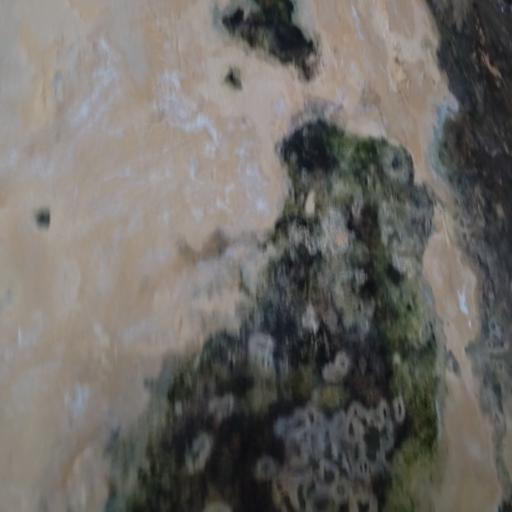algae: (92, 86, 512, 512)
